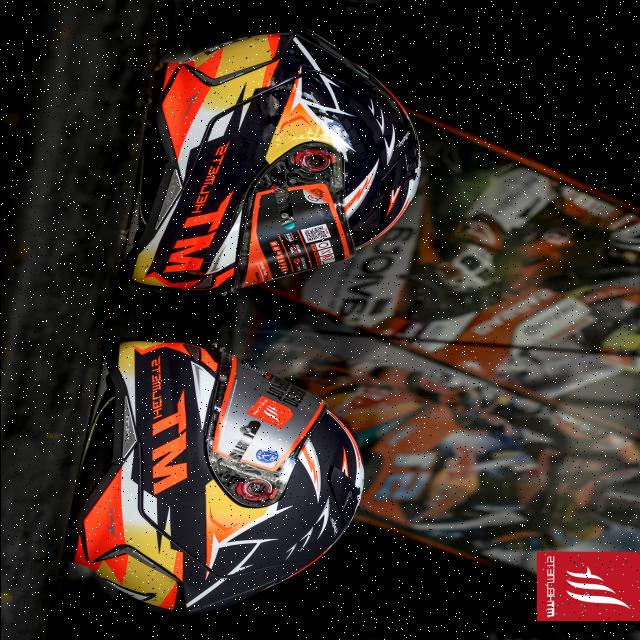Helmet: (47, 340, 386, 616), (122, 30, 419, 294)
